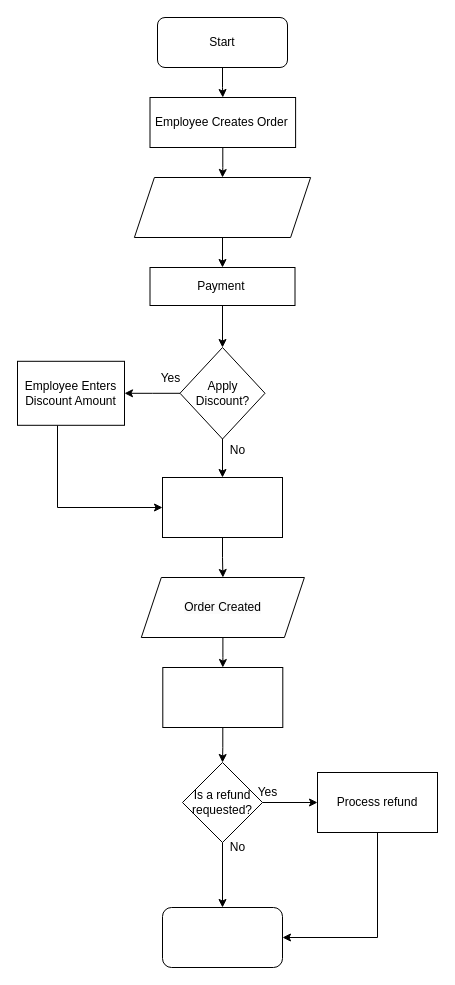
Some shapes in this 455 by 985 pixel diagram are drawn without their labels. The centre of each missing label's shape, as x and y in pixels:
Customer Info, Items Selected/Removed: the point at 222,207
End: the point at 222,937
payment confirmation: the point at 222,507
Receipt Generated: the point at 222,697
